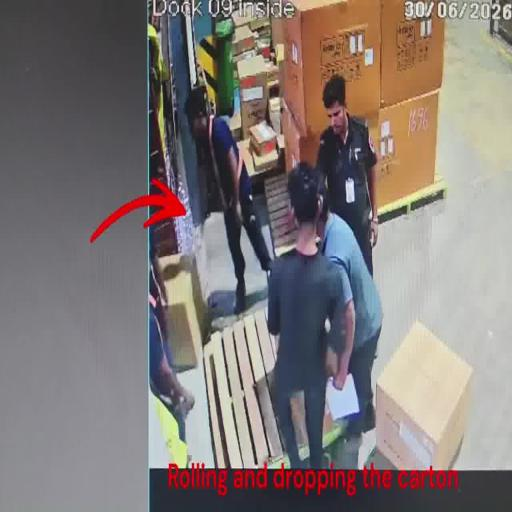carton: (375, 319, 473, 477), (281, 0, 380, 139), (372, 88, 440, 214), (380, 0, 447, 107), (156, 254, 202, 374), (290, 385, 338, 458), (282, 96, 322, 172), (235, 51, 268, 104), (240, 92, 269, 141), (232, 10, 260, 52), (248, 121, 276, 158), (260, 64, 280, 102), (270, 99, 282, 136)
pallet: (201, 304, 299, 502), (374, 183, 448, 225), (265, 175, 297, 259)
person: (265, 162, 358, 476), (186, 83, 274, 315), (314, 208, 384, 448), (315, 71, 380, 277), (148, 263, 195, 469)
